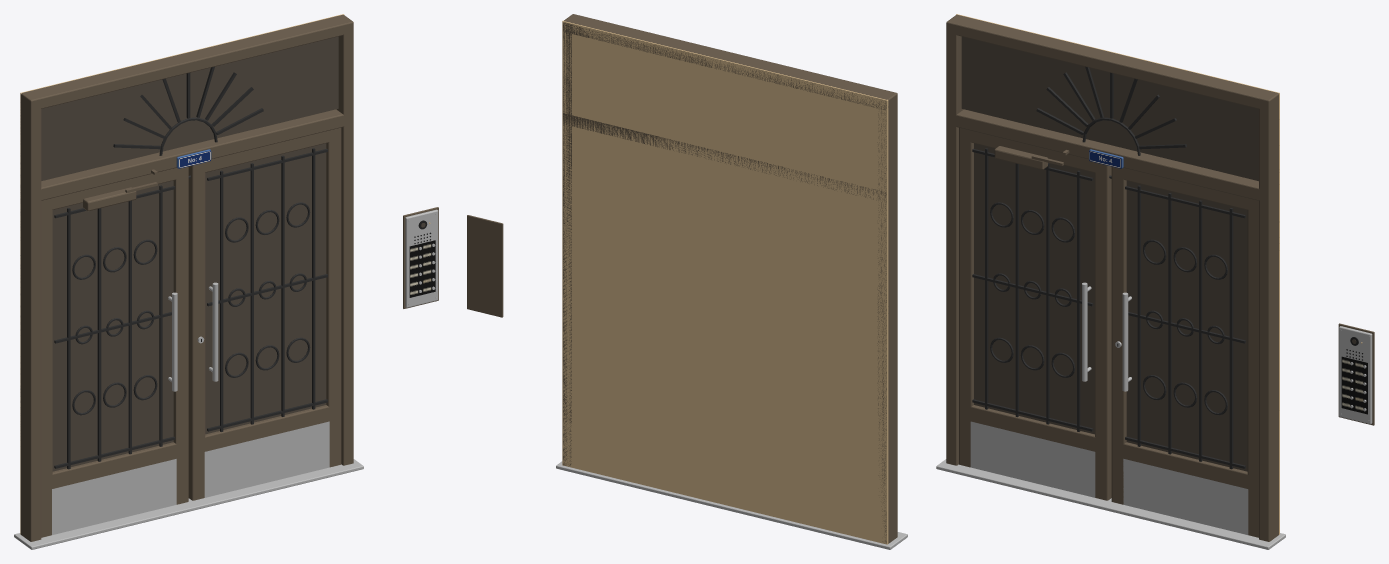
The model's file is GirisKapisi.fbx.
3 renders of one model, left to right at view 1: azimuth 30°, elevation 25°; view 2: azimuth 150°, elevation 25°; view 3: azimuth 330°, elevation 25°, orthographic.
Parts seen in each view (by area): view 1: GirisKapisi; view 2: GirisKapisi; view 3: GirisKapisi.
Boxes of the visible parts, x1,y1,x2,y2 form: GirisKapisi: (14, 14, 438, 549); GirisKapisi: (467, 14, 907, 549); GirisKapisi: (936, 14, 1374, 549).
Size of the model in its own units: 2.75 by 2.76 by 0.2.
